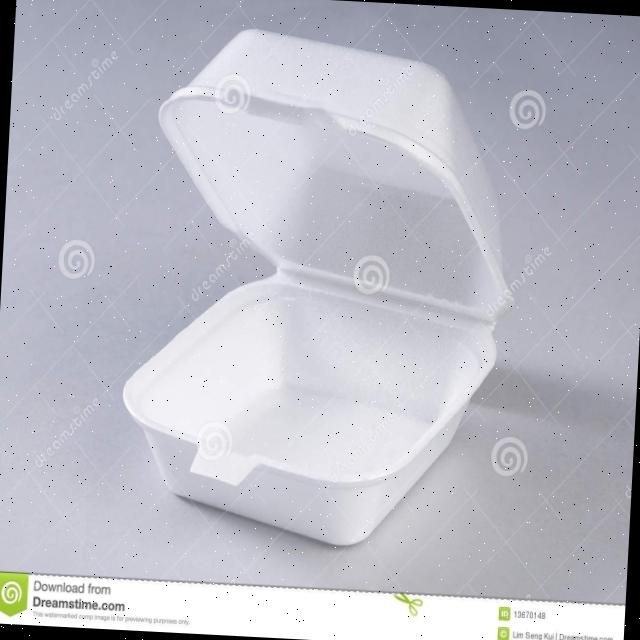styrofoam: (114, 21, 528, 556)
